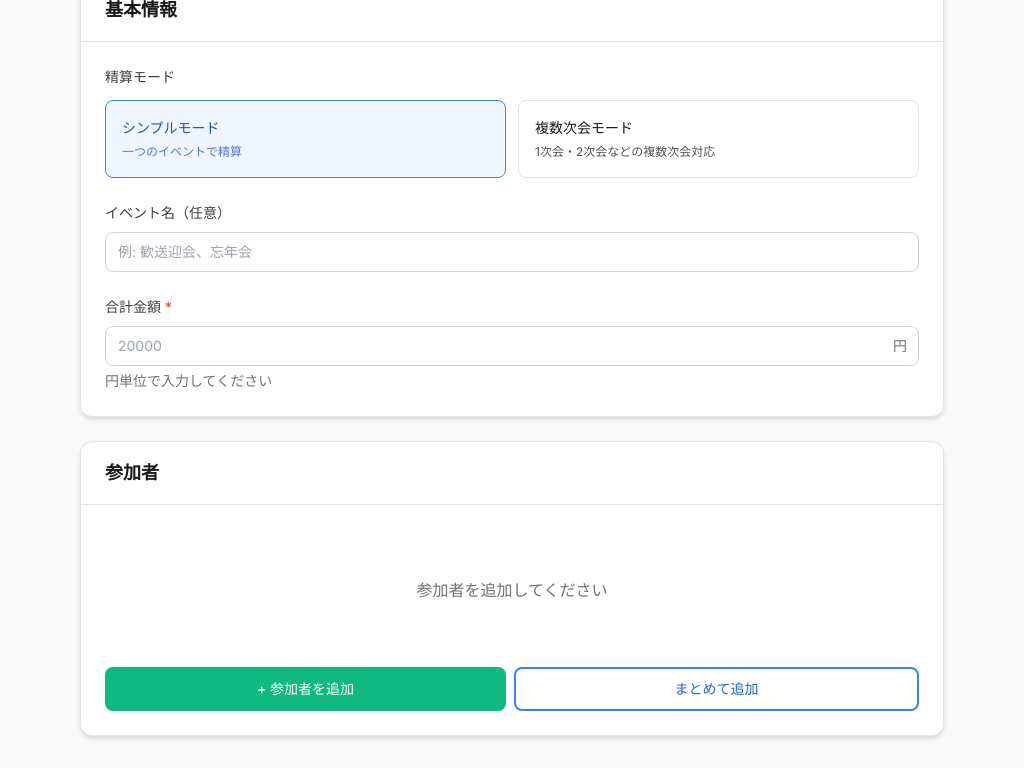
it: HomePage › TC006: 参加者追加モーダルが表示される
(page scrolled)
Click the button "+ 参加者を追加": (306, 689) [105, 667, 506, 711]
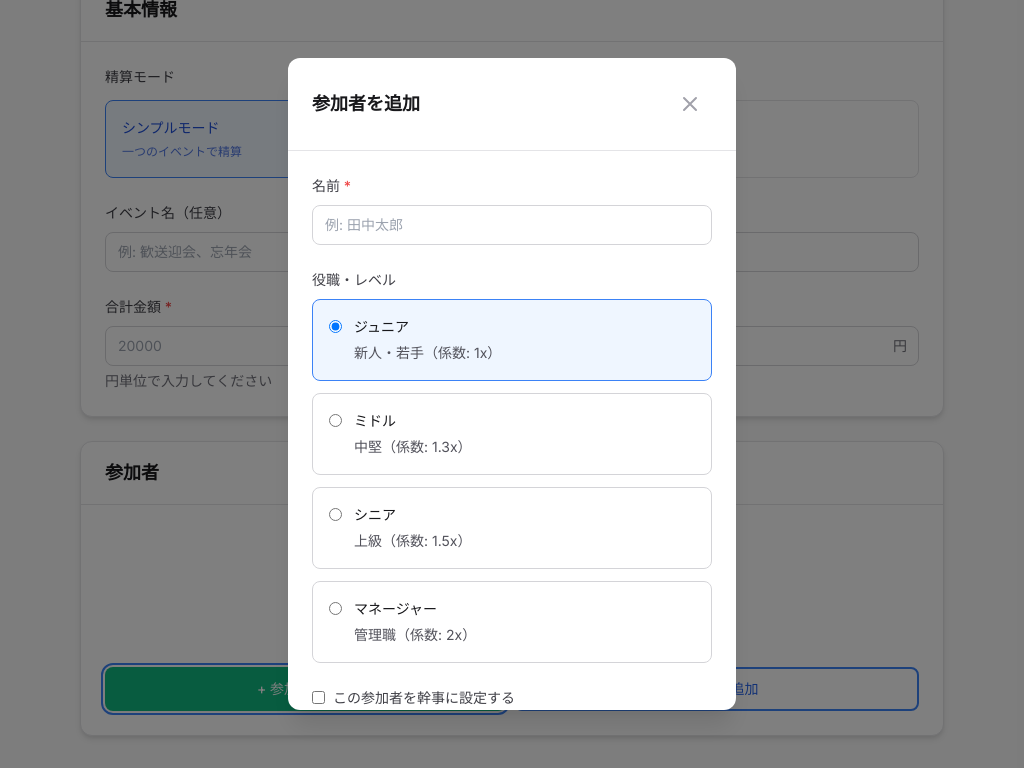
Check: the heading "参加者を追加" is shown, box [312, 89, 436, 119]
Check: the field labelled "名前 *" is shown, box [312, 205, 712, 245]
Check: the text "ジュニア" is shown, box [354, 318, 409, 335]
